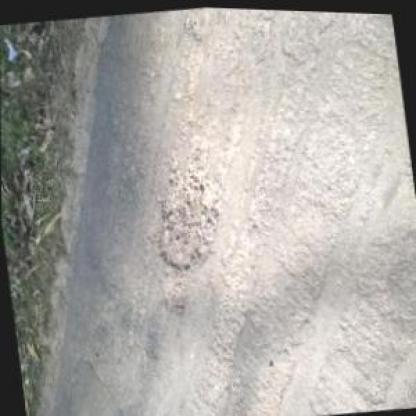pothole: (143, 147, 233, 275)
